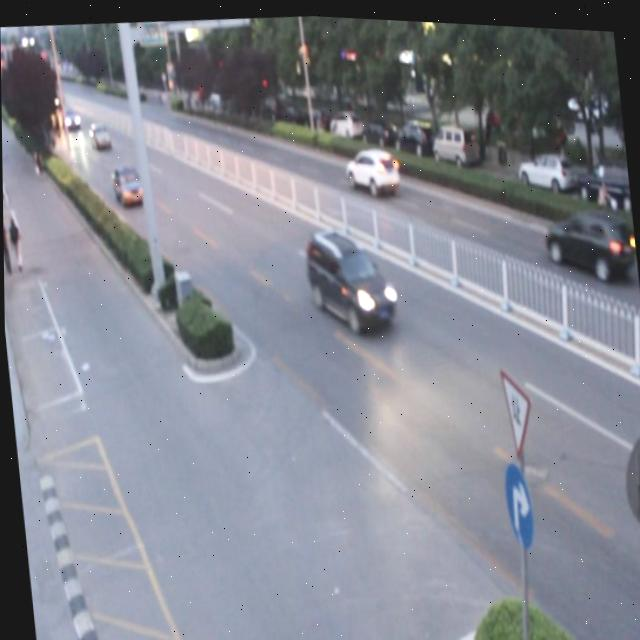car: (299, 218, 397, 337), (540, 195, 637, 284), (340, 138, 399, 194), (109, 163, 144, 207)
